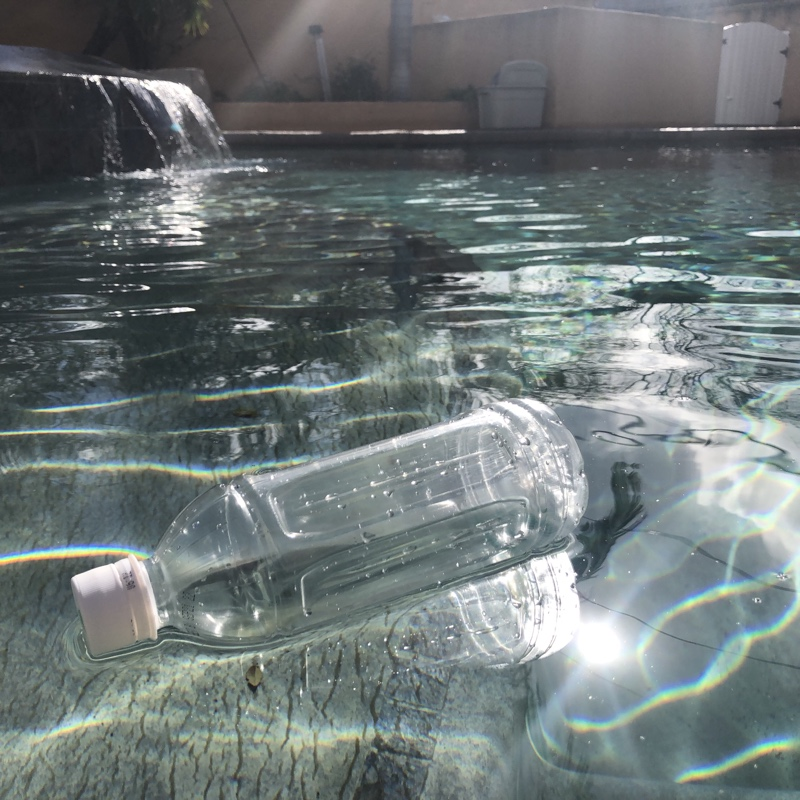Plastic Bottle: (65, 395, 592, 666)
